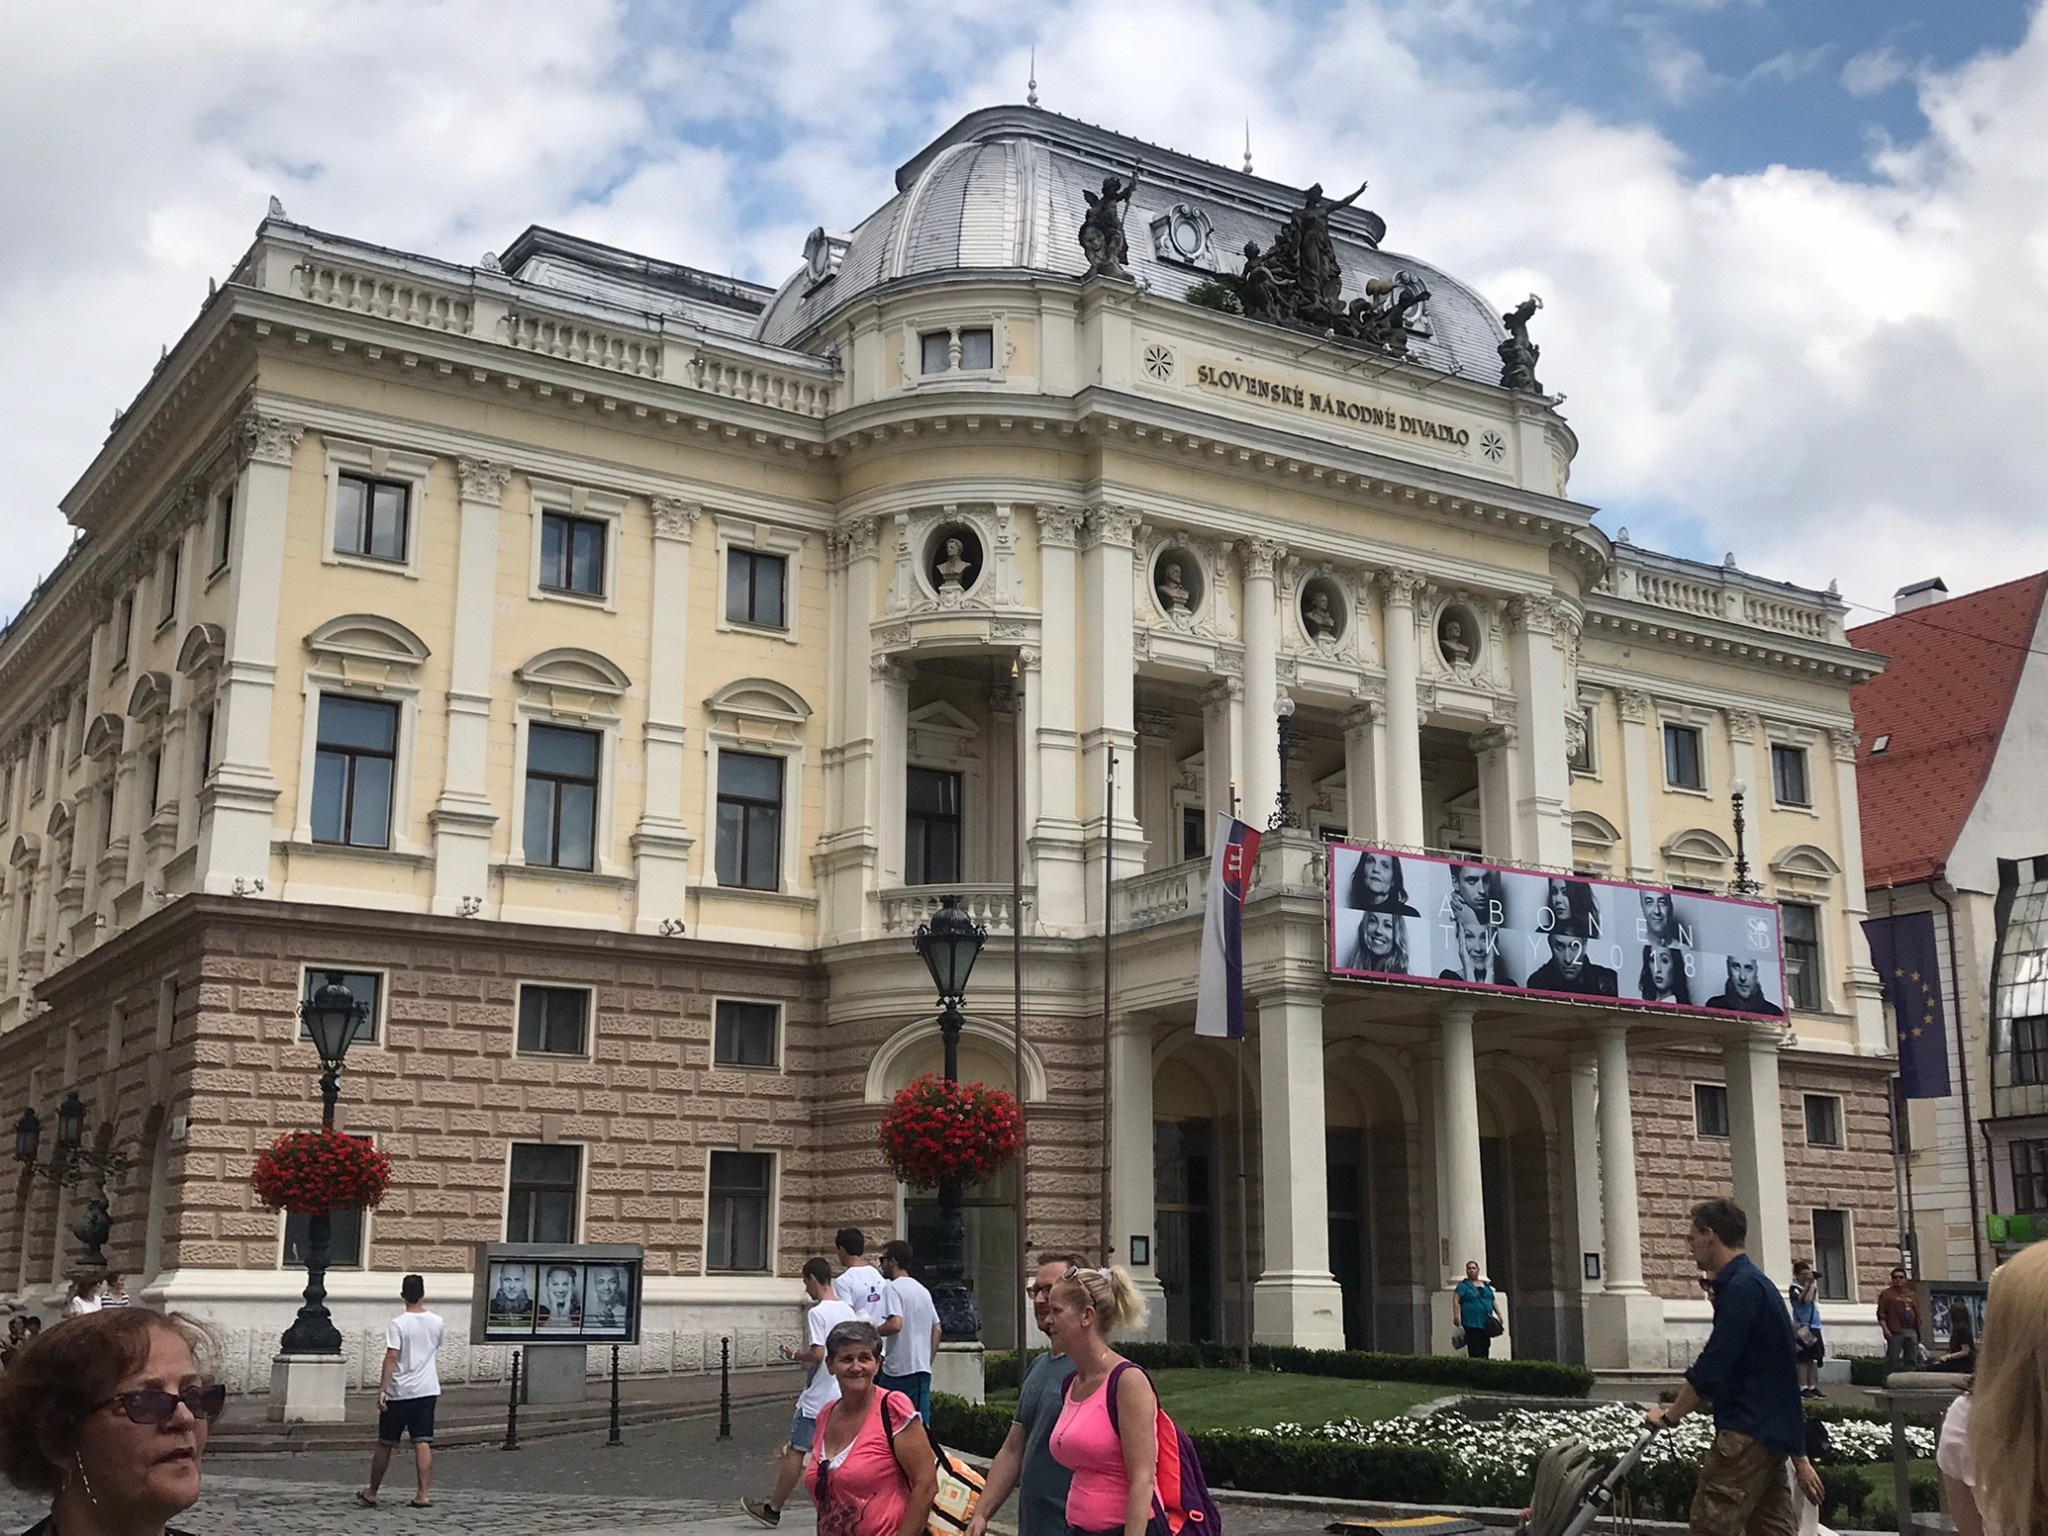people: (1652, 1210, 1802, 1534), (28, 1308, 237, 1536), (1043, 1266, 1178, 1531), (804, 1319, 940, 1536), (996, 1255, 1096, 1536), (360, 1266, 446, 1516), (784, 1263, 849, 1499), (878, 1246, 957, 1437), (1443, 1263, 1502, 1366), (831, 1231, 878, 1340), (1790, 1246, 1831, 1372), (1887, 1258, 1928, 1372)
